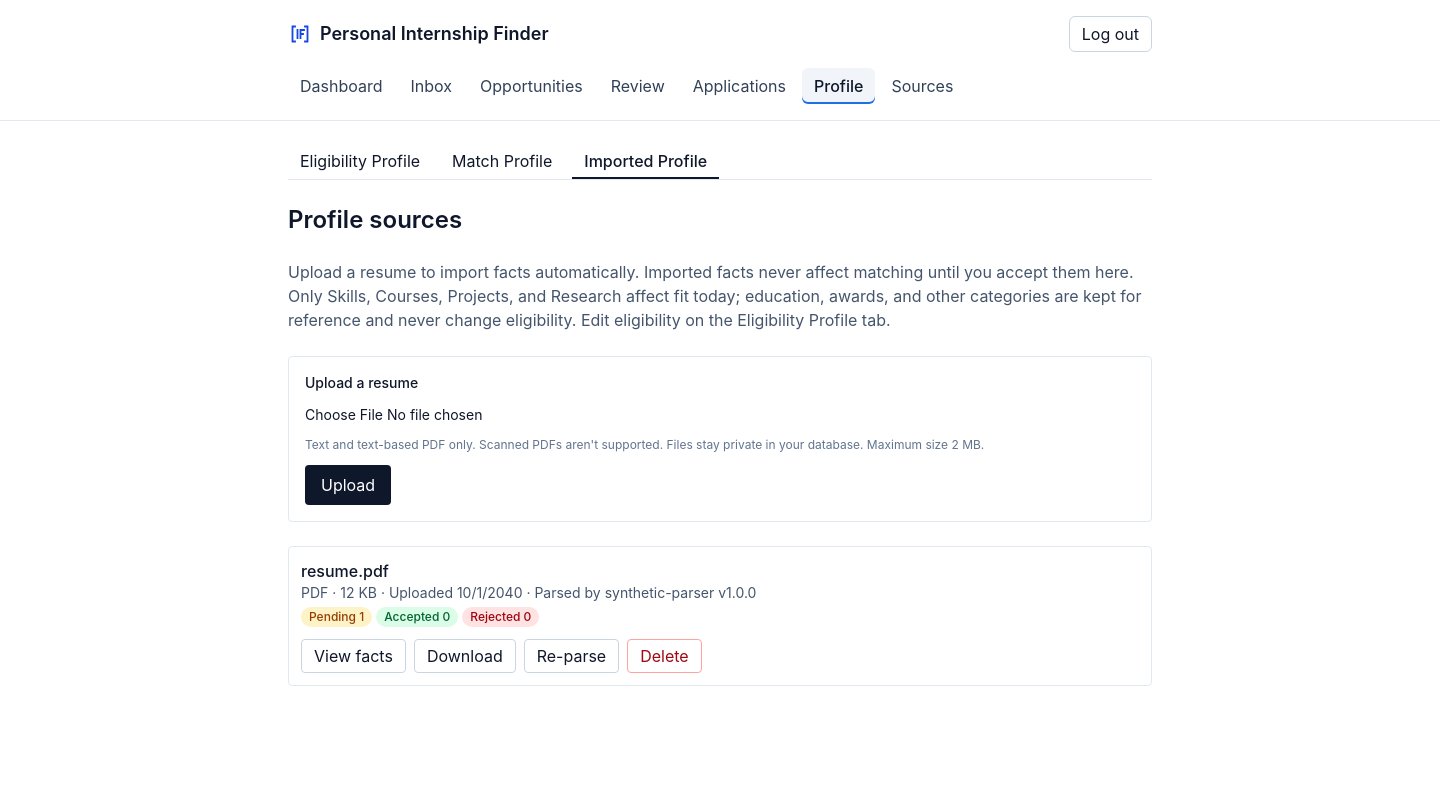
profile sources page › shows "Saved. Matching unchanged." when the catalog is unaffected
The width and height of the screenshot is (1440, 810).
Click the button "View facts".
click(353, 656)  # box [301, 639, 406, 673]
(page scrolled)
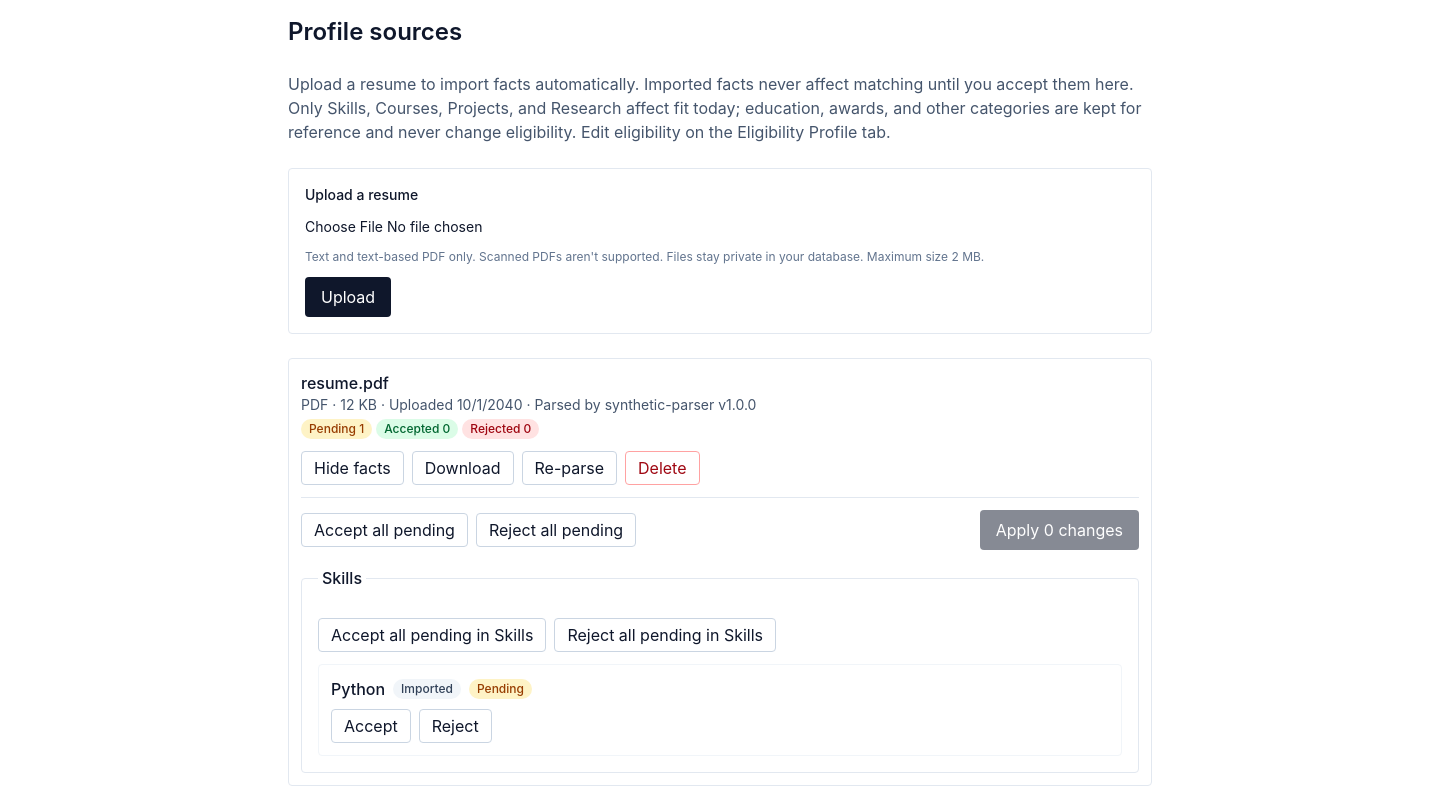
Click the button "Accept".
click(371, 726)  # box [331, 709, 411, 743]
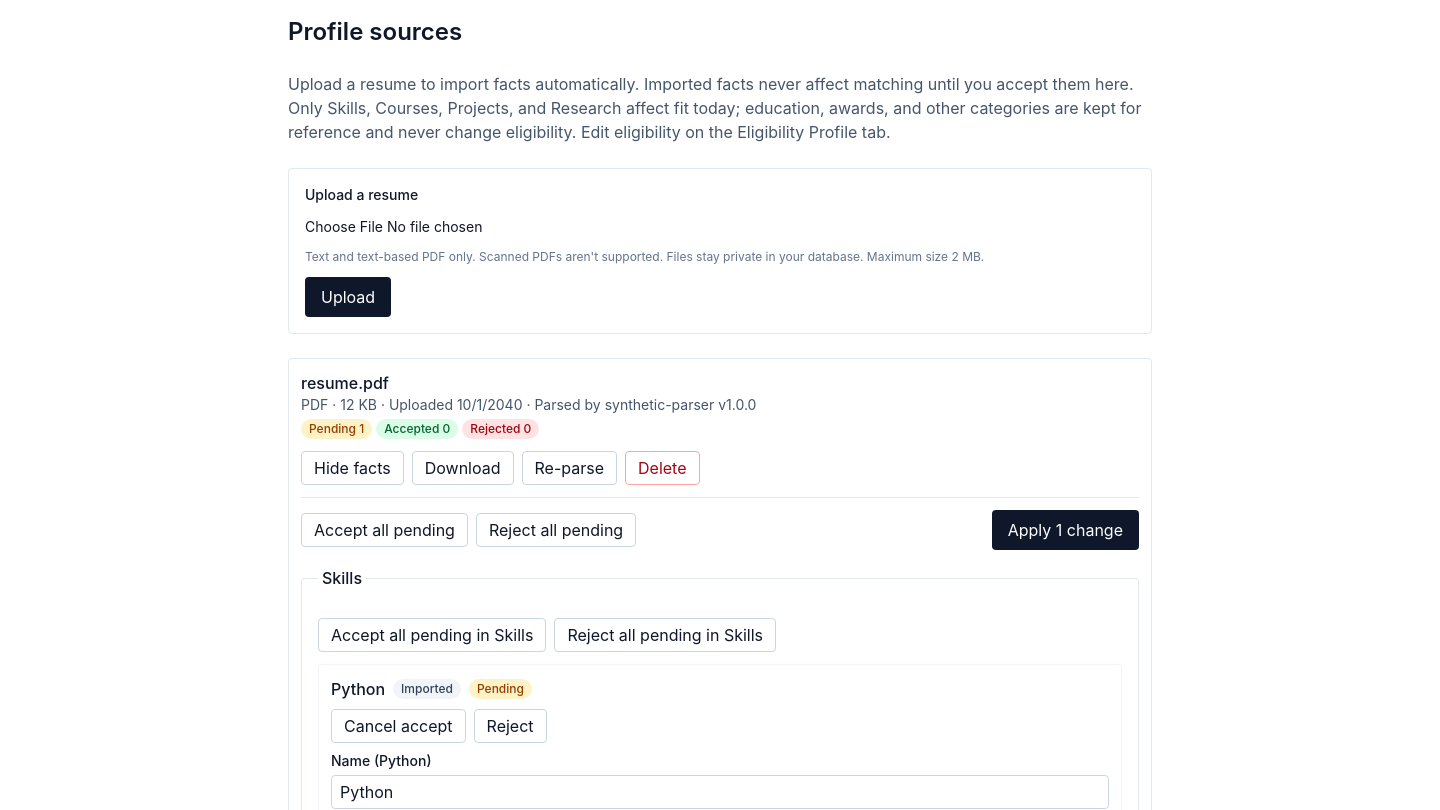
Click the button "Apply 1 change".
click(1065, 530)  # box [992, 510, 1139, 550]
(page scrolled)
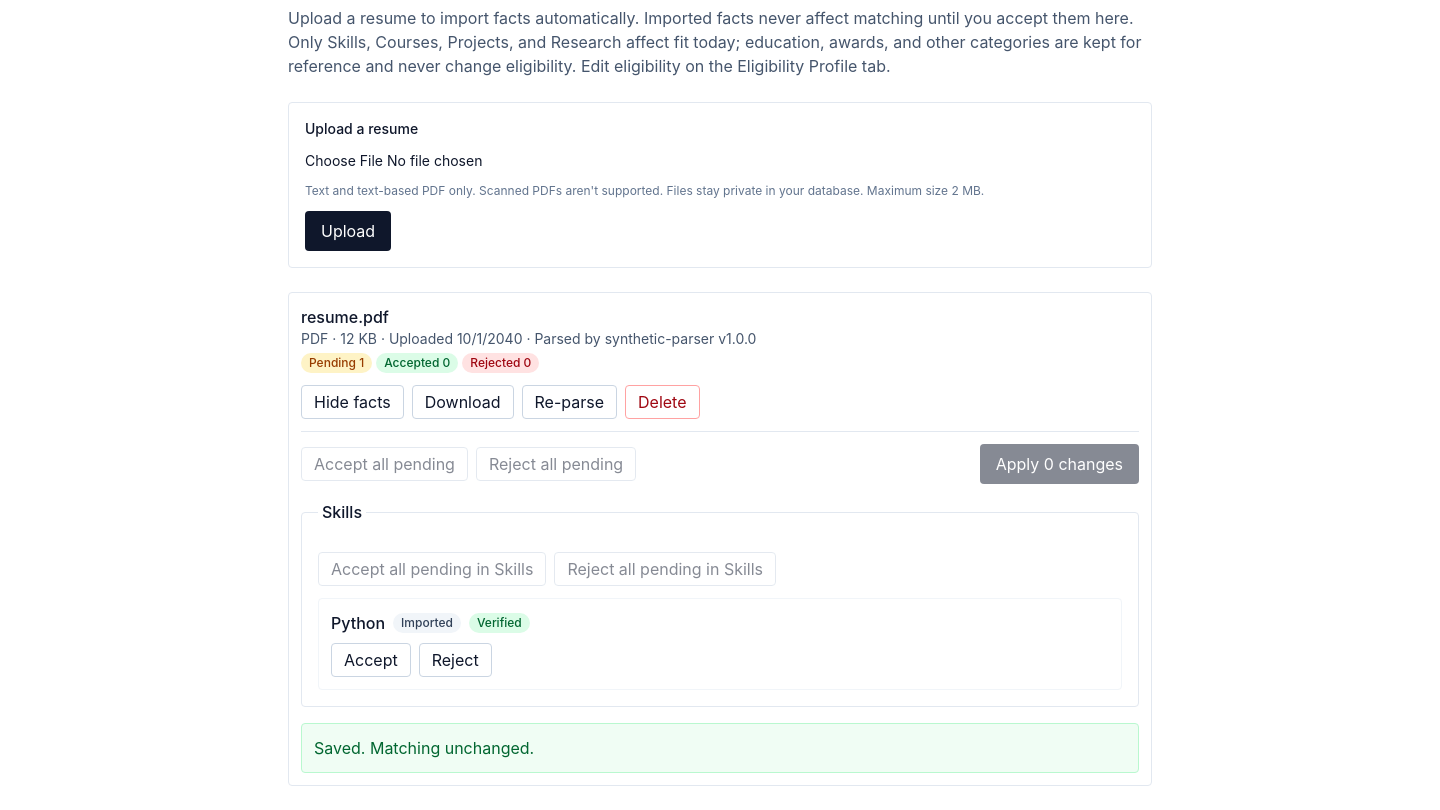
Now the text "Saved. Matching unchanged." is shown, box [301, 723, 1139, 773]
